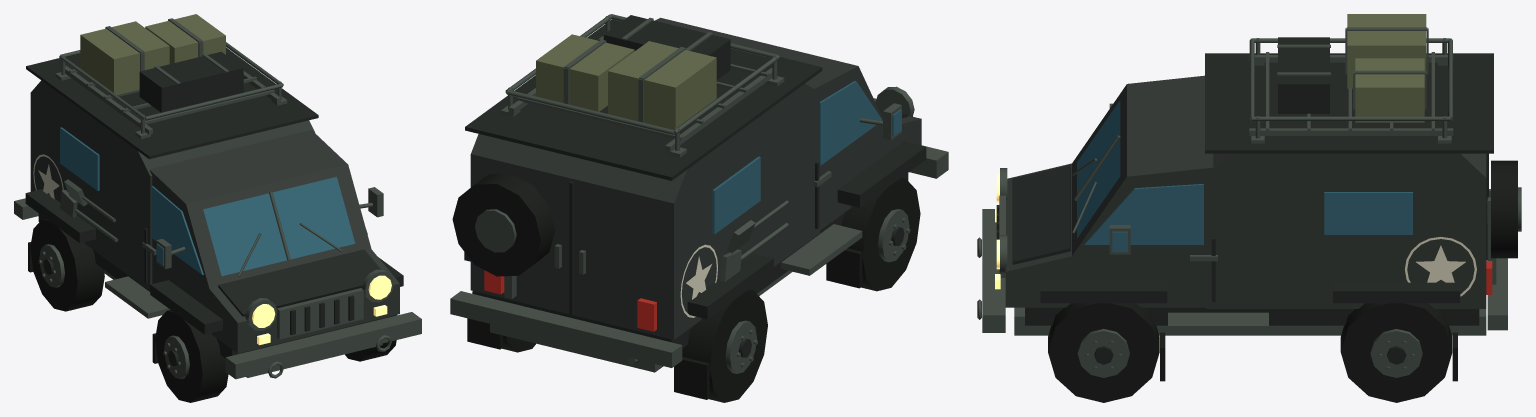
The model's file is M3van.glb.
The picture shows the model from 3 angles, left to right: view 1: azimuth 30°, elevation 25°; view 2: azimuth 150°, elevation 25°; view 3: azimuth 270°, elevation 25°; orthographic projection. The views are drawn at different scales.
Visible parts, largest first — view 1: M12_paint, M12_paintDark, M12_metal, M12_glass, M12_rubber, M12_canvas, M12_lamp, M12_marking; view 2: M12_paint, M12_paintDark, M12_metal, M12_rubber, M12_canvas, M12_glass, M12_redLamp, M12_marking; view 3: M12_paint, M12_paintDark, M12_metal, M12_rubber, M12_glass, M12_canvas, M12_marking.
Boxes of the visible parts, box(x1,y1,x2,y2) form: M12_paint: box(30, 80, 399, 353); M12_paintDark: box(25, 47, 403, 365); M12_metal: box(14, 18, 421, 379); M12_glass: box(60, 127, 367, 276); M12_rubber: box(28, 218, 396, 402); M12_canvas: box(80, 14, 225, 94); M12_lamp: box(252, 275, 391, 345); M12_marking: box(33, 154, 63, 199); M12_paint: box(470, 17, 921, 339); M12_paintDark: box(464, 15, 926, 357); M12_metal: box(450, 14, 948, 373); M12_rubber: box(452, 173, 920, 402); M12_canvas: box(536, 34, 716, 129); M12_glass: box(712, 81, 901, 234); M12_redLamp: box(484, 270, 656, 331); M12_marking: box(680, 244, 717, 317); M12_paint: box(1005, 75, 1486, 308); M12_paintDark: box(996, 37, 1493, 364); M12_metal: box(977, 27, 1521, 377); M12_rubber: box(1048, 160, 1517, 402); M12_glass: box(1077, 100, 1412, 252); M12_canvas: box(1347, 14, 1426, 122); M12_marking: box(1405, 237, 1476, 296).
Size of the model in its own units: 3.1 by 3.44 by 5.65.
